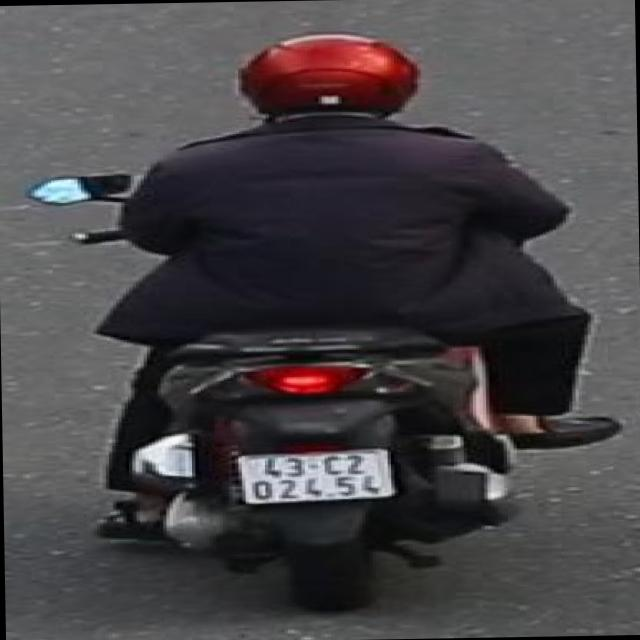LP: (230, 445, 398, 508)
helmet: (230, 25, 424, 139)
